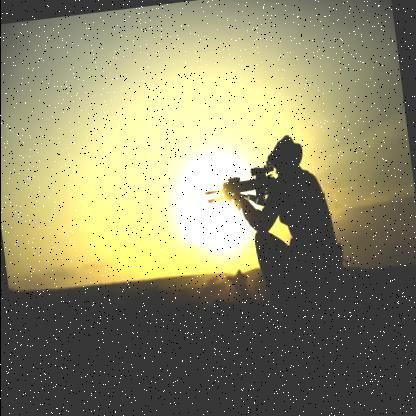rifle: (199, 158, 286, 218)
